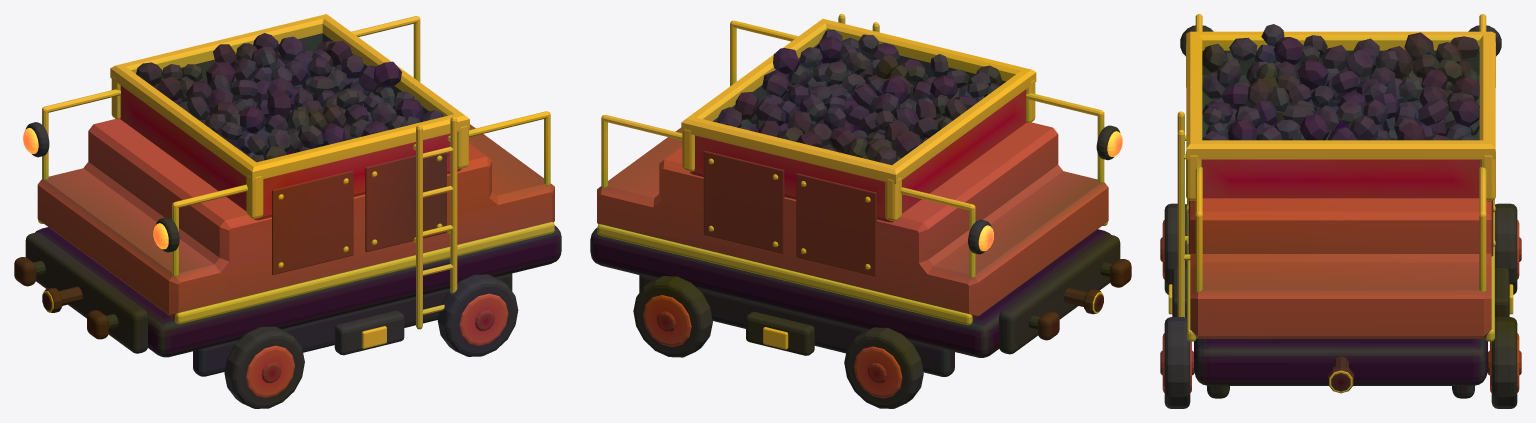
The model's file is Tender_Blockout.glb.
3 views of the same model, side by side, from view 1: azimuth 30°, elevation 25°; view 2: azimuth 150°, elevation 25°; view 3: azimuth 270°, elevation 25° (orthographic). The views are drawn at different scales.
Parts seen in each view (by area): view 1: Body, Frame, Wheels, DeckRails, Ladder, TailLights, Coupler_Rear, CoalChunk104, CoalChunk141, CoalChunk140, CoalChunk122; view 2: Body, Frame, Wheels, DeckRails, TailLights, Coupler_Rear, CoalChunk104, CoalChunk128, CoalChunk82, CoalChunk93, CoalChunk46, CoalChunk141; view 3: Body, Frame, Wheels, DeckRails, Ladder, Coupler_Front, CoalChunk140, CoalChunk104, CoalChunk112, CoalChunk141, CoalChunk122, CoalChunk82 (+35 smaller).
Part boxes in pixels (box(x1,y1,x2,y2)): Body: box(37, 14, 554, 324); Frame: box(14, 225, 561, 376); Wheels: box(224, 274, 518, 408); DeckRails: box(42, 16, 550, 276); Ladder: box(413, 116, 457, 329); TailLights: box(23, 122, 179, 252); Coupler_Rear: box(42, 286, 82, 312); CoalChunk104: box(373, 61, 401, 87); CoalChunk141: box(240, 107, 265, 133); CoalChunk140: box(267, 90, 290, 117); CoalChunk122: box(277, 36, 305, 61); Body: box(597, 18, 1108, 325); Frame: box(590, 228, 1131, 376); Wheels: box(633, 276, 923, 408); DeckRails: box(601, 20, 1104, 277); TailLights: box(968, 125, 1122, 254); Coupler_Rear: box(1064, 288, 1103, 314); CoalChunk104: box(773, 48, 799, 74); CoalChunk128: box(816, 36, 843, 63); CoalChunk82: box(891, 131, 920, 158); CoalChunk93: box(735, 92, 758, 119); CoalChunk46: box(828, 127, 855, 153); CoalChunk141: box(930, 75, 957, 99); Body: box(1186, 31, 1495, 341); Frame: box(1194, 338, 1487, 398); Wheels: box(1160, 203, 1521, 408); DeckRails: box(1195, 14, 1486, 291); Ladder: box(1177, 111, 1190, 317); Coupler_Front: box(1328, 356, 1353, 393); CoalChunk140: box(1297, 60, 1328, 89); CoalChunk104: box(1300, 114, 1330, 140); CoalChunk112: box(1451, 97, 1479, 126); CoalChunk141: box(1273, 37, 1302, 64); CoalChunk122: box(1418, 99, 1448, 125); CoalChunk82: box(1404, 32, 1434, 60).
Bounding box in the file's own units: 4.79 × 2.37 × 2.83.
